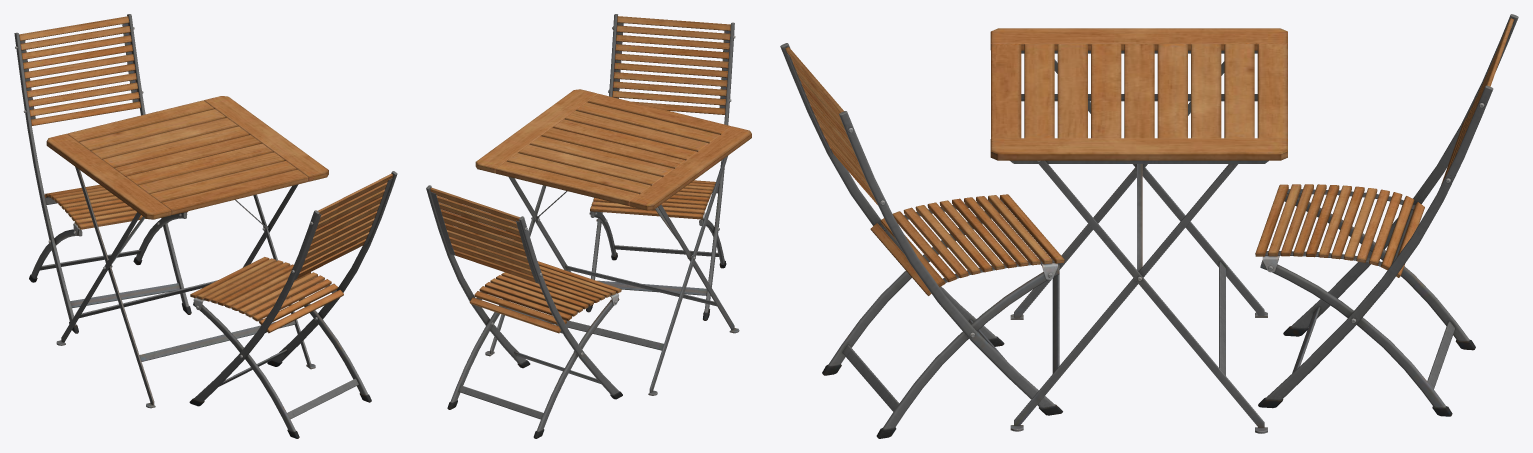
The model's file is outdoor_table_chair_set_01.glb.
The picture shows the model from 3 angles, left to right: view 1: azimuth 30°, elevation 25°; view 2: azimuth 150°, elevation 25°; view 3: azimuth 270°, elevation 25°; orthographic projection. The views are drawn at different scales.
Parts seen in each view (by area): view 1: outdoor_table_chair_set_01_table, outdoor_table_chair_set_01_chair_02, outdoor_table_chair_set_01_chair_01; view 2: outdoor_table_chair_set_01_table, outdoor_table_chair_set_01_chair_02, outdoor_table_chair_set_01_chair_01; view 3: outdoor_table_chair_set_01_table, outdoor_table_chair_set_01_chair_01, outdoor_table_chair_set_01_chair_02.
Boxes of the visible parts, bbox=[...] form: outdoor_table_chair_set_01_table: bbox=[46, 96, 328, 408]; outdoor_table_chair_set_01_chair_02: bbox=[14, 14, 191, 333]; outdoor_table_chair_set_01_chair_01: bbox=[189, 171, 397, 438]; outdoor_table_chair_set_01_table: bbox=[475, 89, 751, 395]; outdoor_table_chair_set_01_chair_02: bbox=[426, 185, 622, 438]; outdoor_table_chair_set_01_chair_01: bbox=[586, 14, 735, 320]; outdoor_table_chair_set_01_table: bbox=[990, 28, 1287, 433]; outdoor_table_chair_set_01_chair_01: bbox=[780, 43, 1064, 438]; outdoor_table_chair_set_01_chair_02: bbox=[1255, 14, 1518, 416].
Size of the model in its own units: 0.7417 by 0.8586 by 1.72.
2 materials, 2 textured.
